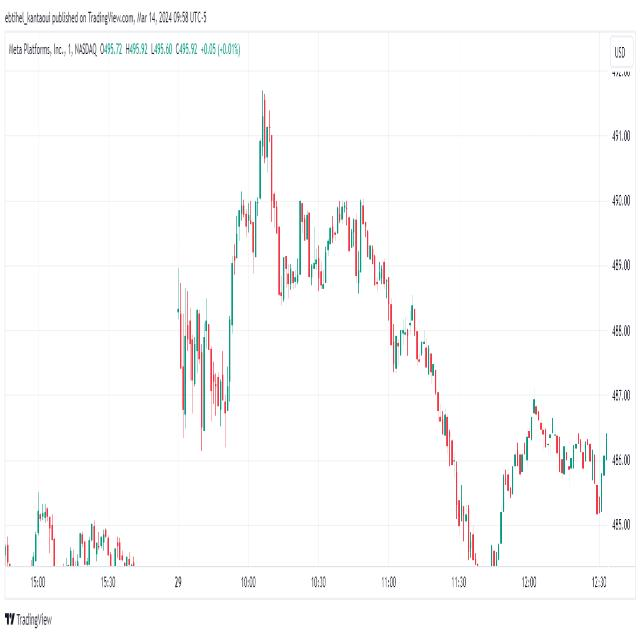Triple-Top: (293, 186, 395, 297)
